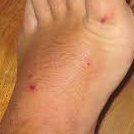Ants: (97, 13, 110, 23), (25, 84, 35, 91), (27, 72, 32, 81)
